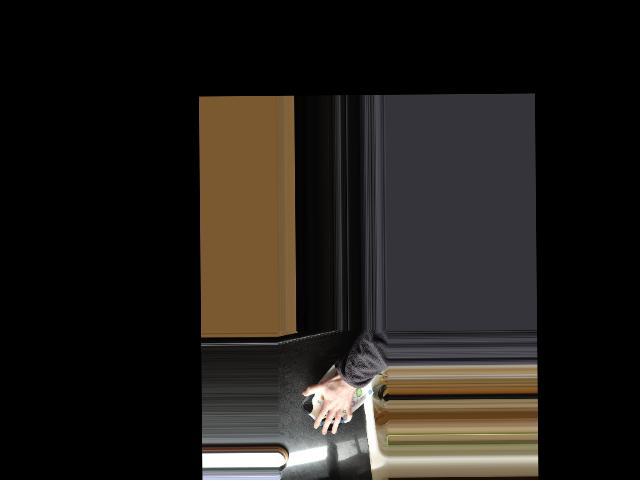cheese: (300, 358, 376, 434)
